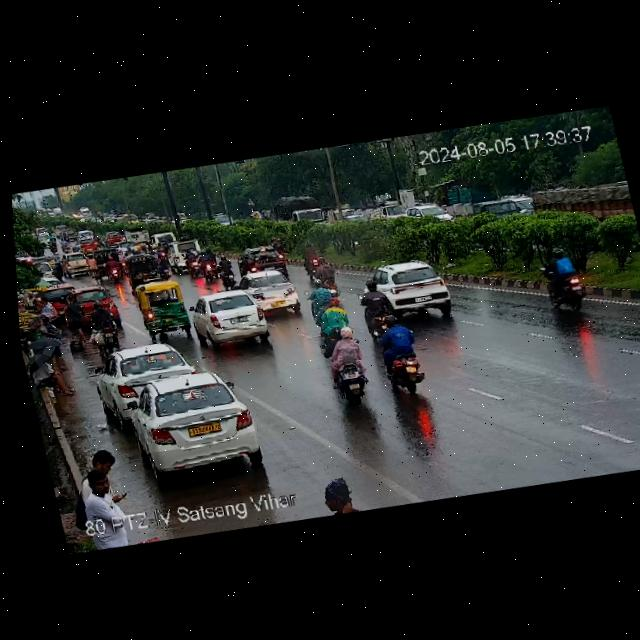car: (119, 358, 287, 492), (86, 334, 220, 434), (350, 232, 470, 336), (185, 281, 282, 356), (227, 254, 309, 322), (127, 273, 202, 346), (66, 276, 128, 330), (228, 235, 289, 280), (30, 279, 89, 323), (117, 246, 173, 292), (162, 231, 211, 280), (404, 195, 457, 228), (466, 193, 522, 223), (498, 185, 541, 217), (88, 244, 123, 278), (57, 246, 94, 278), (21, 255, 60, 285), (144, 225, 179, 251), (210, 204, 240, 229), (99, 226, 125, 248), (112, 236, 139, 255), (75, 227, 99, 245), (52, 221, 74, 239), (258, 204, 276, 222), (31, 223, 52, 238), (177, 213, 198, 226), (145, 209, 159, 220)
motorcycle: (306, 320, 387, 415), (528, 236, 607, 319), (370, 306, 434, 400), (308, 292, 375, 365), (76, 292, 133, 356), (295, 269, 344, 326), (305, 251, 348, 294), (292, 239, 330, 286), (193, 247, 222, 289), (175, 244, 207, 281), (212, 252, 237, 289), (103, 254, 125, 283), (85, 253, 103, 284), (116, 248, 128, 278), (43, 236, 60, 254), (56, 235, 72, 254), (57, 227, 70, 243), (46, 226, 58, 239)
person: (64, 443, 147, 522), (19, 323, 85, 400), (65, 459, 142, 521), (20, 336, 79, 405), (55, 288, 92, 349), (33, 293, 64, 327), (37, 314, 66, 344), (251, 208, 261, 219)
truck: (529, 173, 636, 232), (272, 190, 326, 227), (361, 186, 408, 224), (322, 201, 356, 224), (122, 226, 151, 246)
